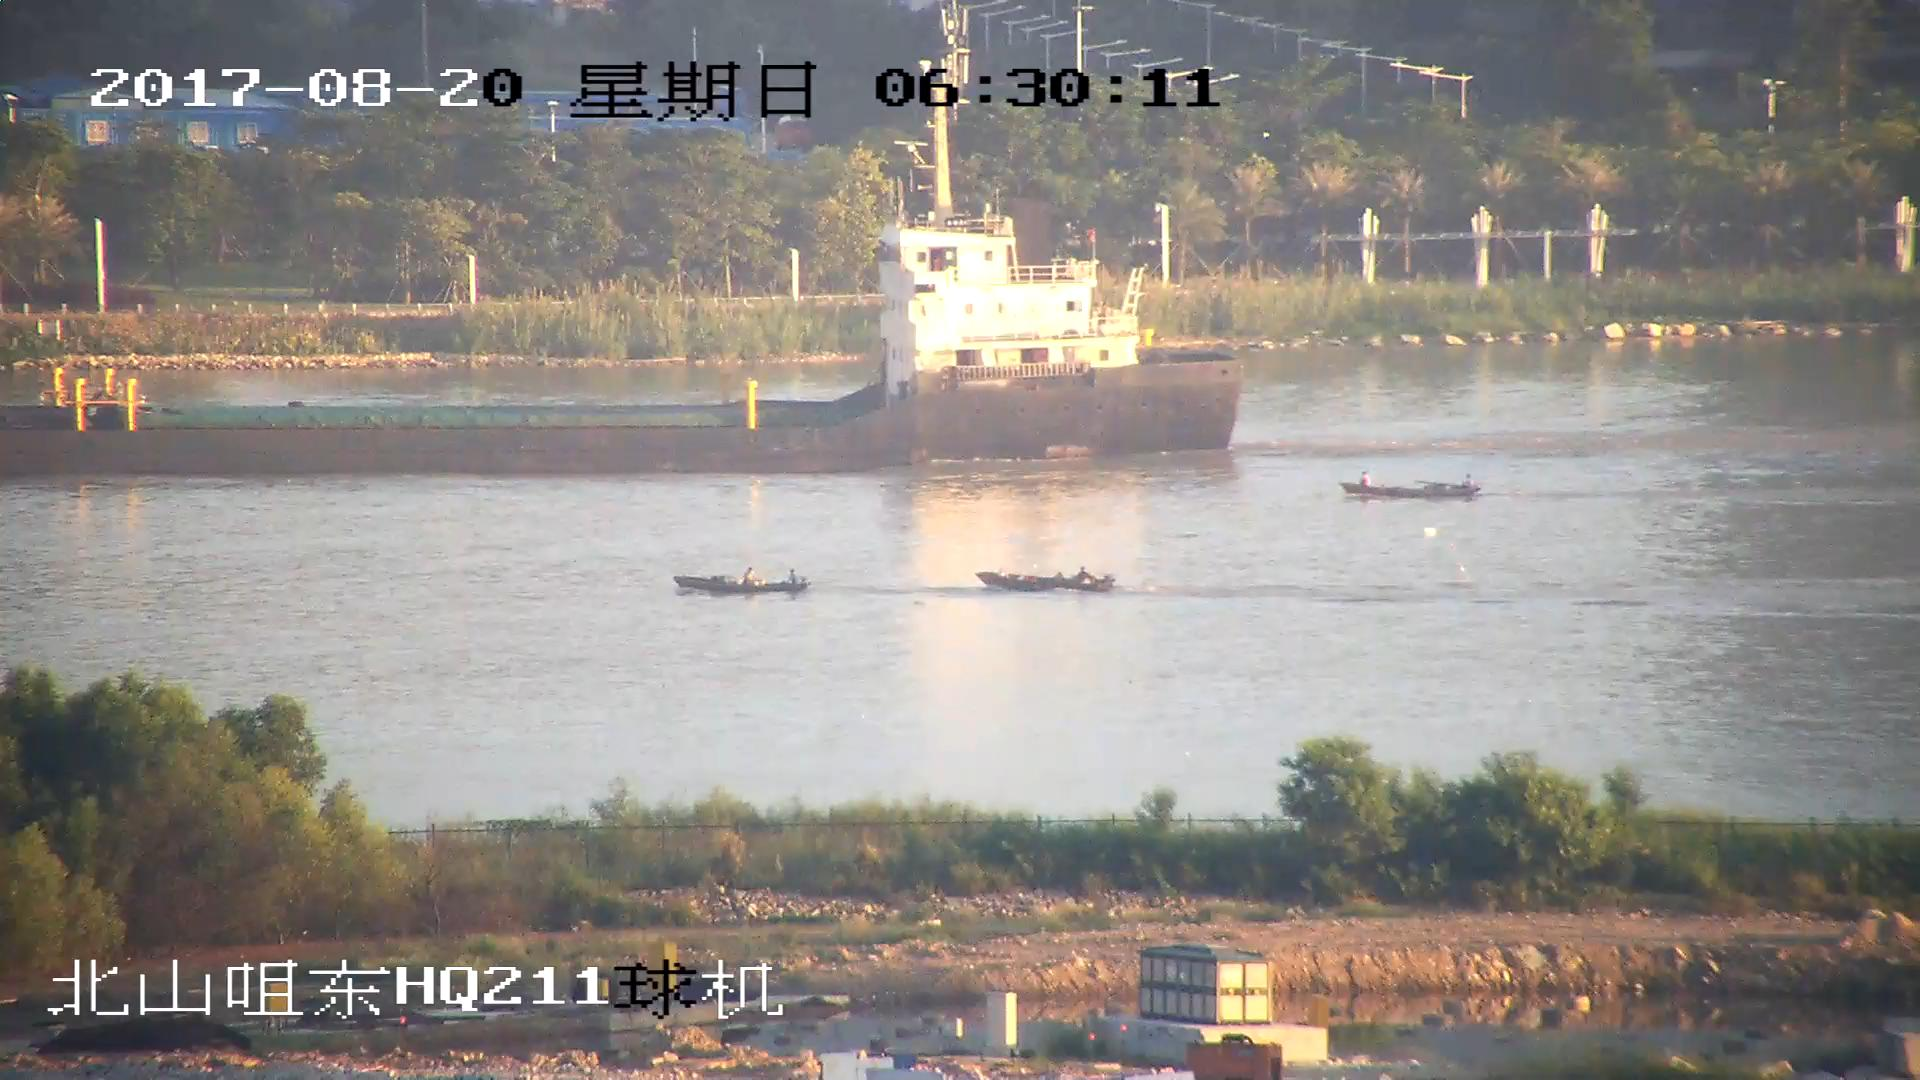fishing boat: (1343, 474, 1481, 502), (675, 568, 807, 598), (979, 566, 1113, 594)
general cargo ship: (1, 122, 1243, 466)
